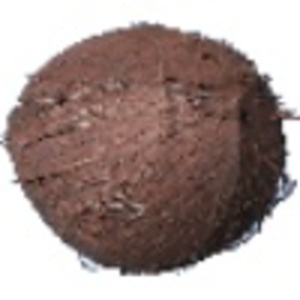coco: (1, 22, 300, 276)
